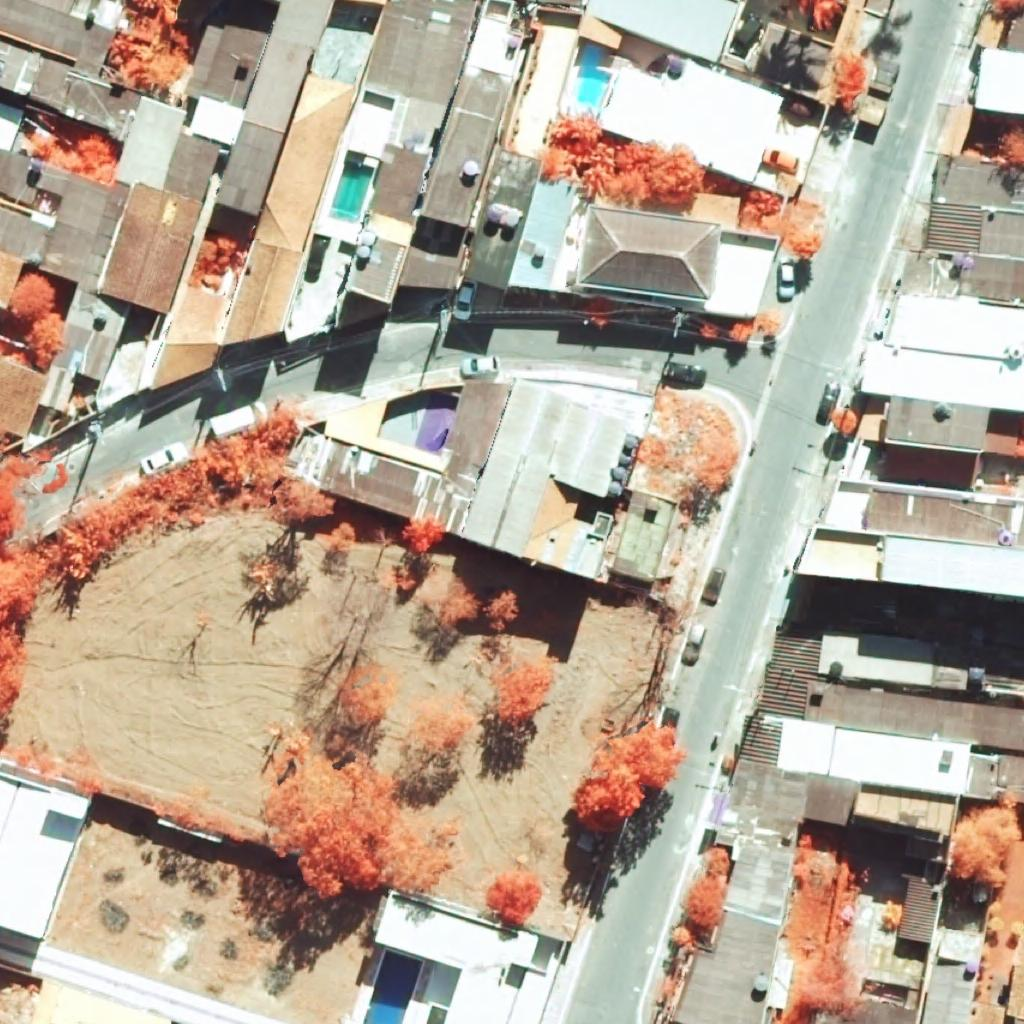pool: (363, 949, 423, 1024), (329, 161, 374, 224), (577, 46, 606, 107)
